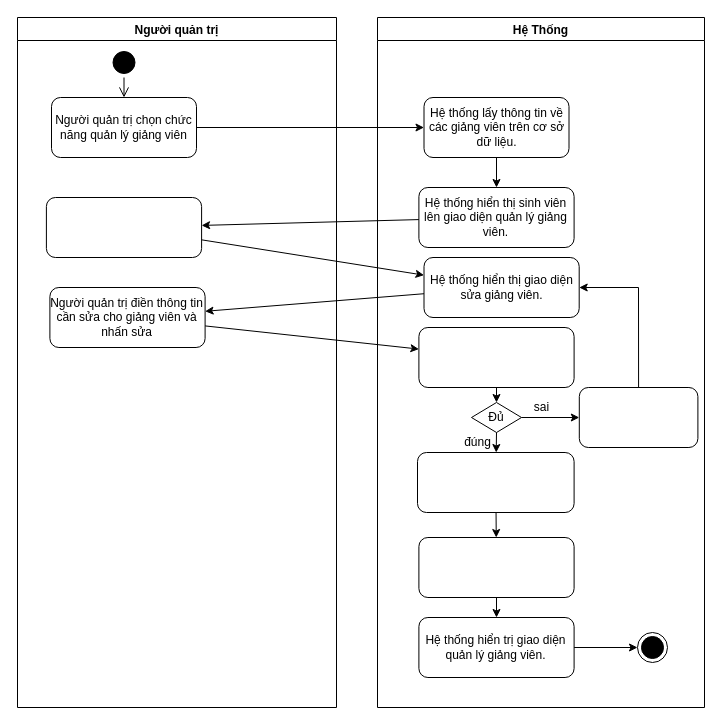
Image size: 722x725. Some labels were removed from this diagram. The shapes that lost their labels are listed below. From the top down, each one's centre as x and y in pixels, then its label:
At (123,227): "Người quản trị chọn chức năng sửa giảng viên".
At (496,357): "Hệ thống kiểm tra thông tin đã nhập của người quản trị".
At (638,417): "Hệ thống thông báo đã nhập thiếu thông tin bắt buộc".
At (495,482): "Hệ thống lưu thông tin giảng viên lên cơ sở dữ liệu.".
At (496,567): "Hệ thống gửi thông báo sửa thành công".
